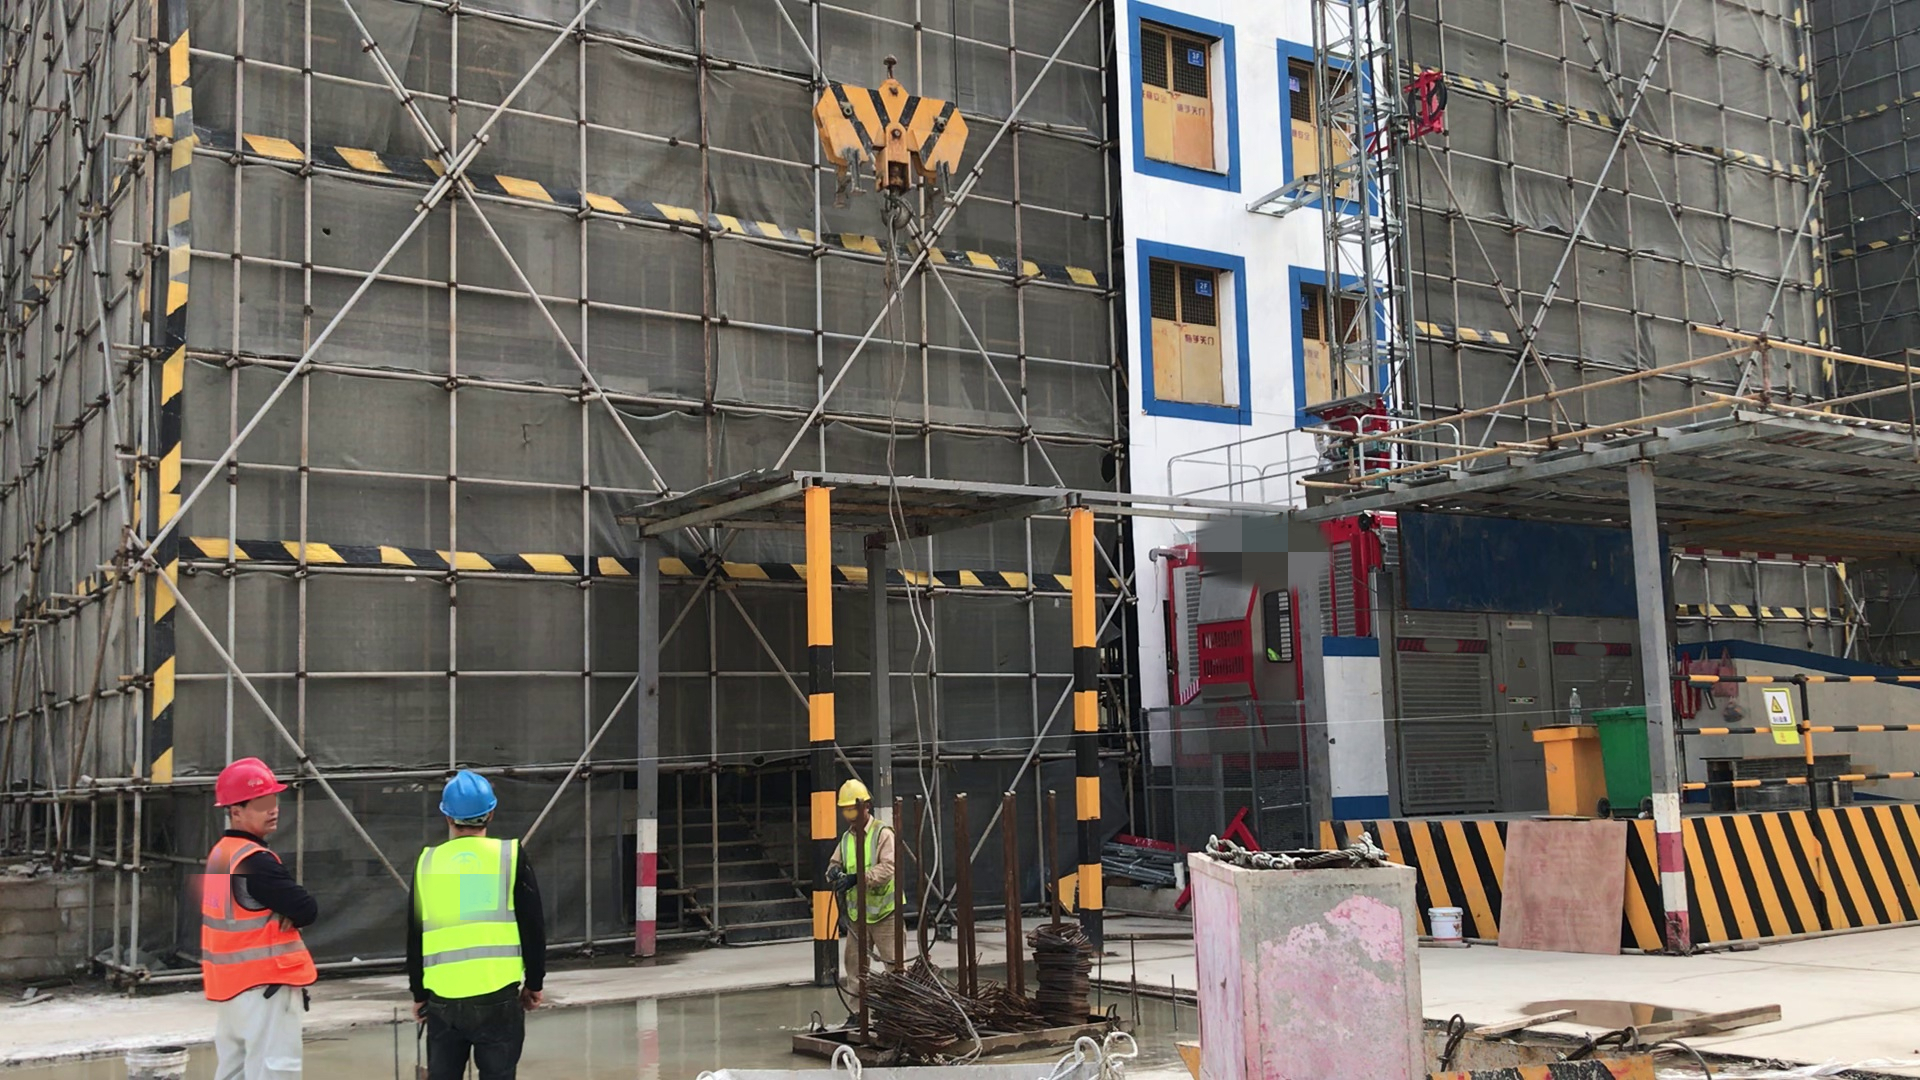helmet: (215, 757, 287, 810), (434, 775, 498, 817), (835, 779, 872, 812)
hook: (814, 74, 970, 229)
person: (400, 775, 548, 1080), (199, 753, 321, 1080), (817, 778, 908, 1028)
slogan: (1762, 686, 1813, 752)
vest: (199, 831, 320, 1001), (407, 835, 528, 997), (832, 828, 900, 925)
